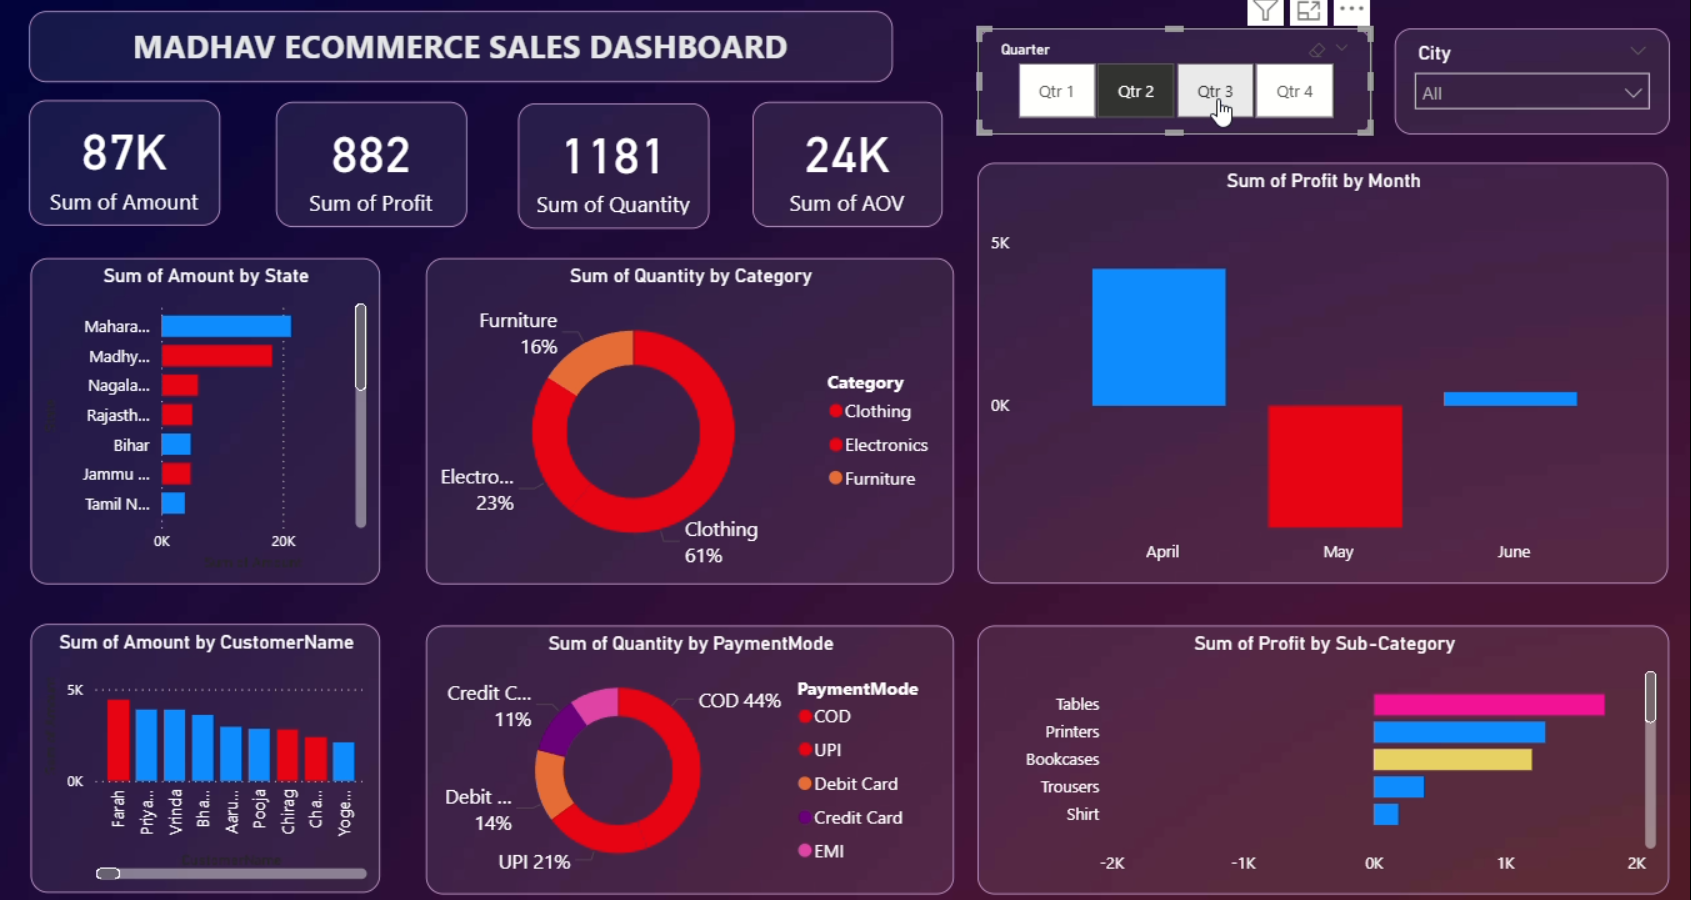

The page's visual inventory and layout, read from the dashboard file:
{"tool":"powerbi","page":{"name":"Page 1","canvas":[1280,720],"ordinal":0},"visuals":[{"type":"textbox","box":[25,10.7,650,53.6],"z":0},{"type":"columnChart","title":"Sum of Profit by Month","fields":{"Category":["Orders.Order Date.Variation.Date Hierarchy.Month"],"Y":["Details.Profit"]},"box":[739.3,125,520.2,316.7],"z":1000},{"type":"barChart","fields":{"Category":["Details.Sub-Category"],"Y":["Details.Profit"]},"box":[738.8,472.9,521.2,202.4],"z":2000},{"type":"donutChart","fields":{"Category":["Details.Category"],"Y":["Details.Quantity"]},"box":[323.8,196.4,397.6,245.2],"z":3000},{"type":"donutChart","fields":{"Category":["Details.PaymentMode"],"Y":["Details.Quantity"]},"box":[323.5,472.9,397.6,202.4],"z":4000},{"type":"card","fields":{"Values":["Details.Amount"]},"box":[25,77.4,144,94],"z":5000},{"type":"card","fields":{"Values":["Details.Profit"]},"box":[210.7,78.6,144,94],"z":6000},{"type":"card","fields":{"Values":["Details.Quantity"]},"box":[392.9,79.8,144,94],"z":7000},{"type":"card","fields":{"Values":["Details.AOV"]},"box":[569,78.6,142.9,94],"z":8000},{"type":"barChart","fields":{"Category":["Orders.State"],"Y":["Details.Amount"]},"box":[26.2,196.4,263.1,245.2],"z":9000},{"type":"columnChart","fields":{"Category":["Orders.CustomerName"],"Y":["Details.Amount"]},"box":[25.9,471.8,263.5,202.4],"z":10000},{"type":"slicer","fields":{"Values":["Orders.Order Date.Variation.Date Hierarchy.Quarter"]},"box":[739.3,23.8,296.4,79.8],"z":11000},{"type":"slicer","fields":{"Values":["Orders.City"]},"box":[1052.9,23.5,207.1,80],"z":12000}]}

Visuals, with their boxes on the page's 1280x720 design canvas (x1, y1, x2, y2). These are canvas units, not pixel positions in the 1691x900 screenshot, which may show the page scaled, cropped or inside an application window:
textbox: <region>25, 11, 675, 64</region>
"Sum of Profit by Month" columnChart: <region>739, 125, 1260, 442</region>
barChart - Details.Sub-Category x Details.Profit: <region>739, 473, 1260, 675</region>
donutChart - Details.Category x Details.Quantity: <region>324, 196, 721, 442</region>
donutChart - Details.PaymentMode x Details.Quantity: <region>324, 473, 721, 675</region>
card - Details.Amount: <region>25, 77, 169, 171</region>
card - Details.Profit: <region>211, 79, 355, 173</region>
card - Details.Quantity: <region>393, 80, 537, 174</region>
card - Details.AOV: <region>569, 79, 712, 173</region>
barChart - Orders.State x Details.Amount: <region>26, 196, 289, 442</region>
columnChart - Orders.CustomerName x Details.Amount: <region>26, 472, 289, 674</region>
slicer - Orders.Order Date.Variation.Date Hierarchy.Quarter: <region>739, 24, 1036, 104</region>
slicer - Orders.City: <region>1053, 24, 1260, 104</region>
